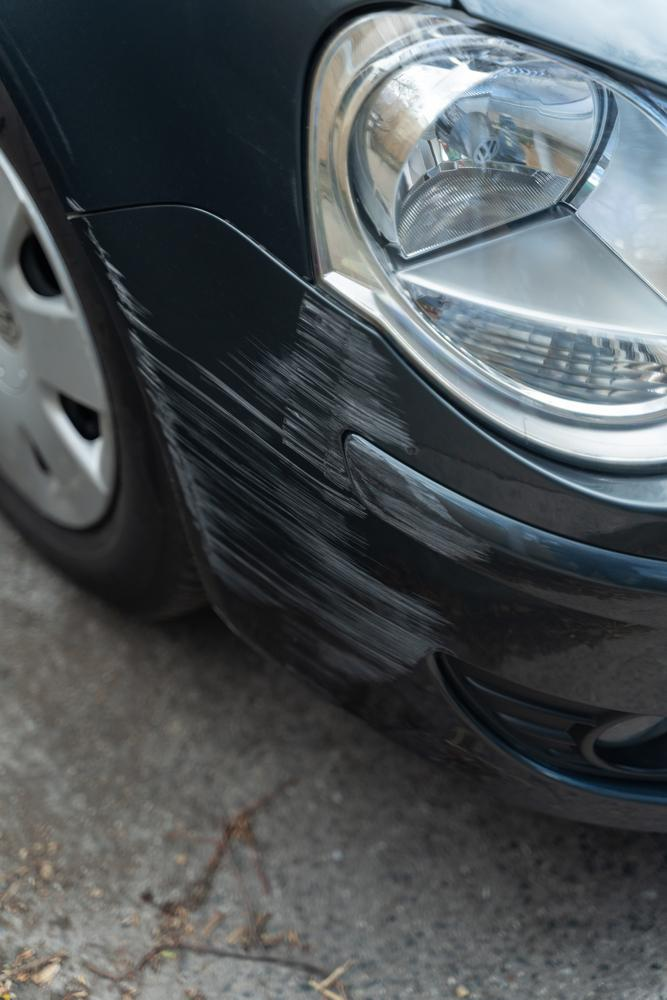scratch: (100, 239, 475, 684)
